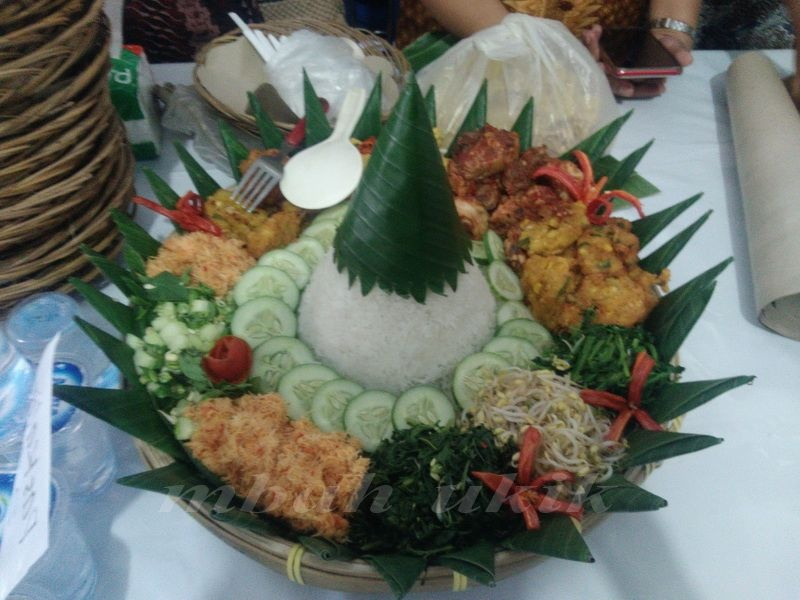nasi_tumpeng: (146, 70, 652, 532)
